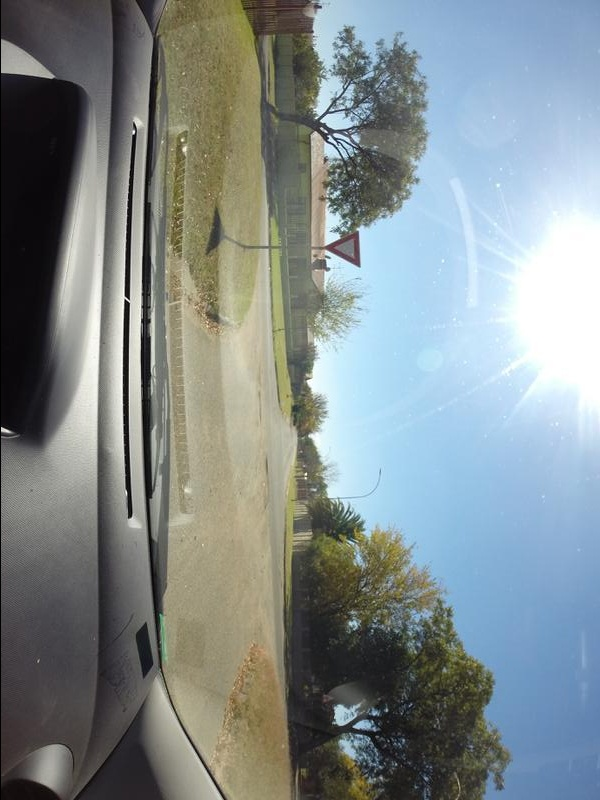pothole: (263, 455, 268, 501), (259, 393, 264, 429)
